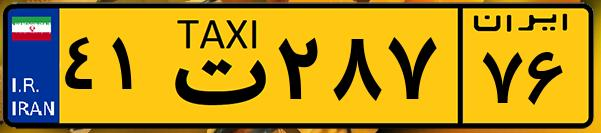1: (110, 28, 158, 98)
2: (270, 28, 330, 110)
4: (57, 26, 110, 100)
6: (525, 38, 570, 115)
7: (385, 28, 445, 110), (475, 38, 525, 113)
8: (330, 28, 385, 110)
ت: (158, 12, 270, 120)
